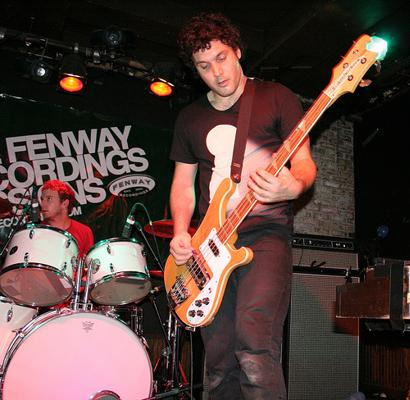person: (170, 12, 318, 400)
